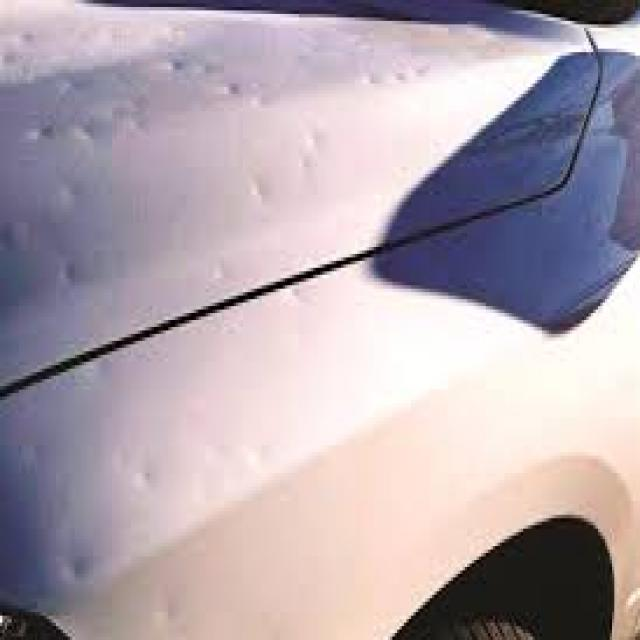minor: (0, 0, 482, 424)
